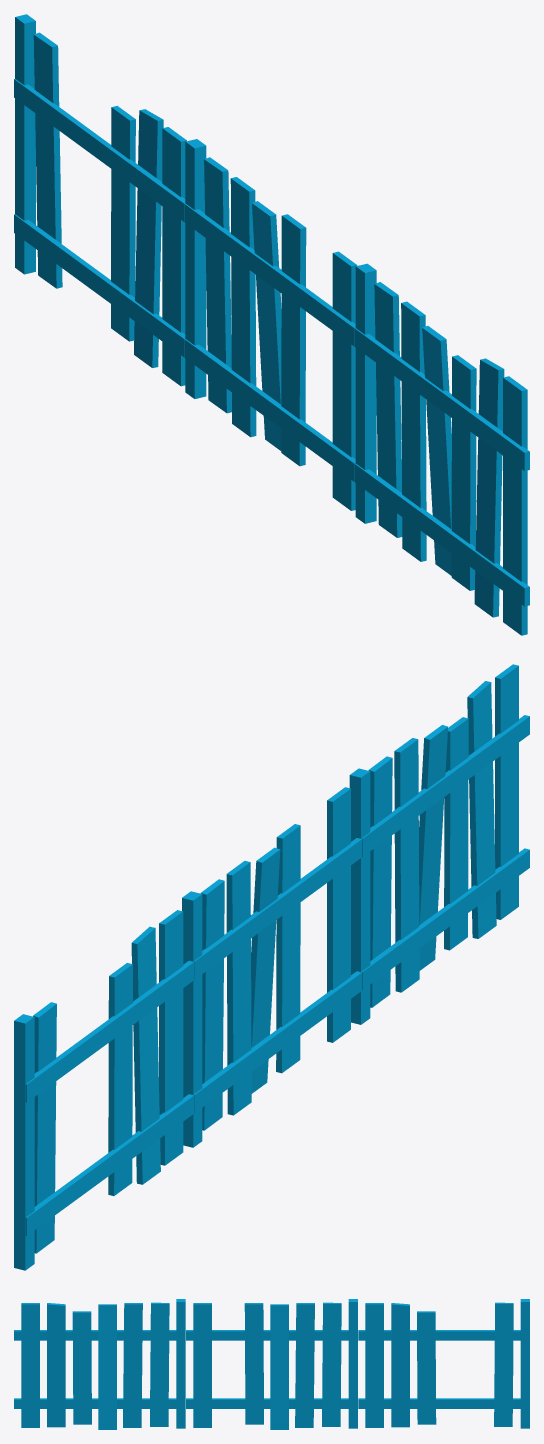
File: Garden_Fence_01_x4.fbx
The picture shows the model from 3 angles, top to bottom: view 1: azimuth 30°, elevation 25°; view 2: azimuth 150°, elevation 25°; view 3: azimuth 270°, elevation 25°; orthographic projection. The views are drawn at different scales.
Visible parts, largest first — view 1: Garden_Fence_01_x4; view 2: Garden_Fence_01_x4; view 3: Garden_Fence_01_x4.
Part boxes in pixels (x1,y1,x2,y2): Garden_Fence_01_x4: (14, 14, 529, 635); Garden_Fence_01_x4: (14, 664, 529, 1270); Garden_Fence_01_x4: (14, 1299, 529, 1429).
Bounding box in the file's own units: 9.72 × 122 × 450.
